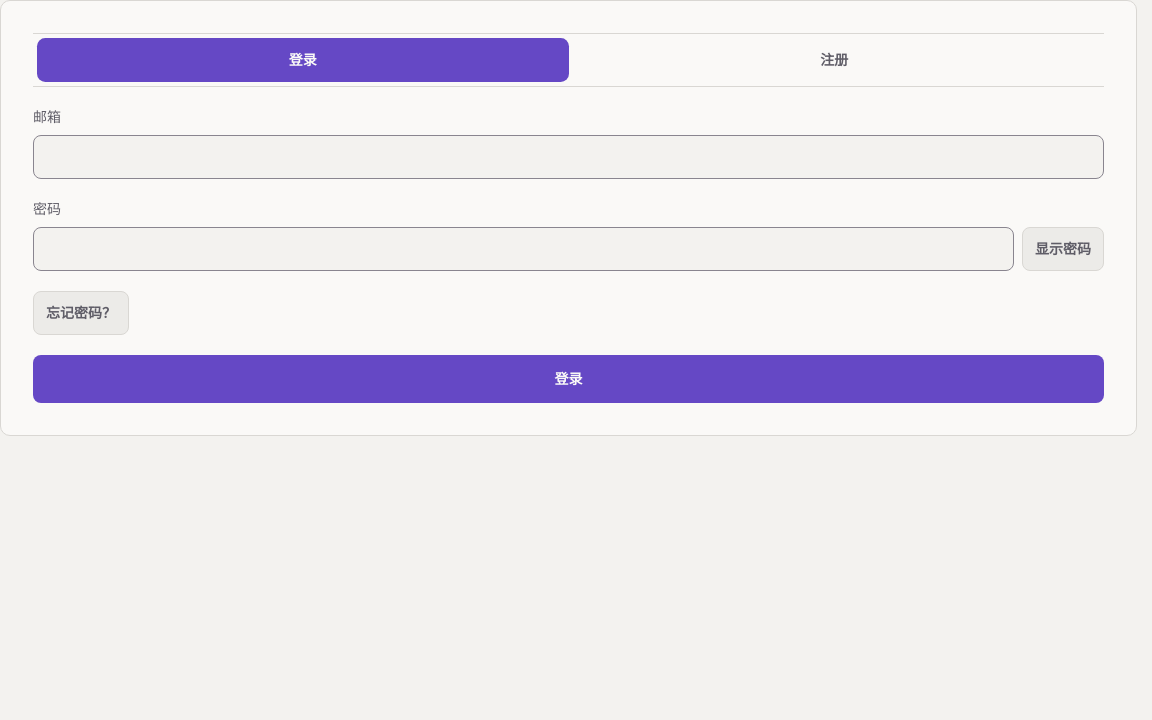
Test case: AuthForm registration email policy › renders API registration-policy failures as an email field error with its suggestion
This screenshot has width=1152, height=720.
Step 1. Click the button "注册" → (834, 60), box [568,38,1100,82]
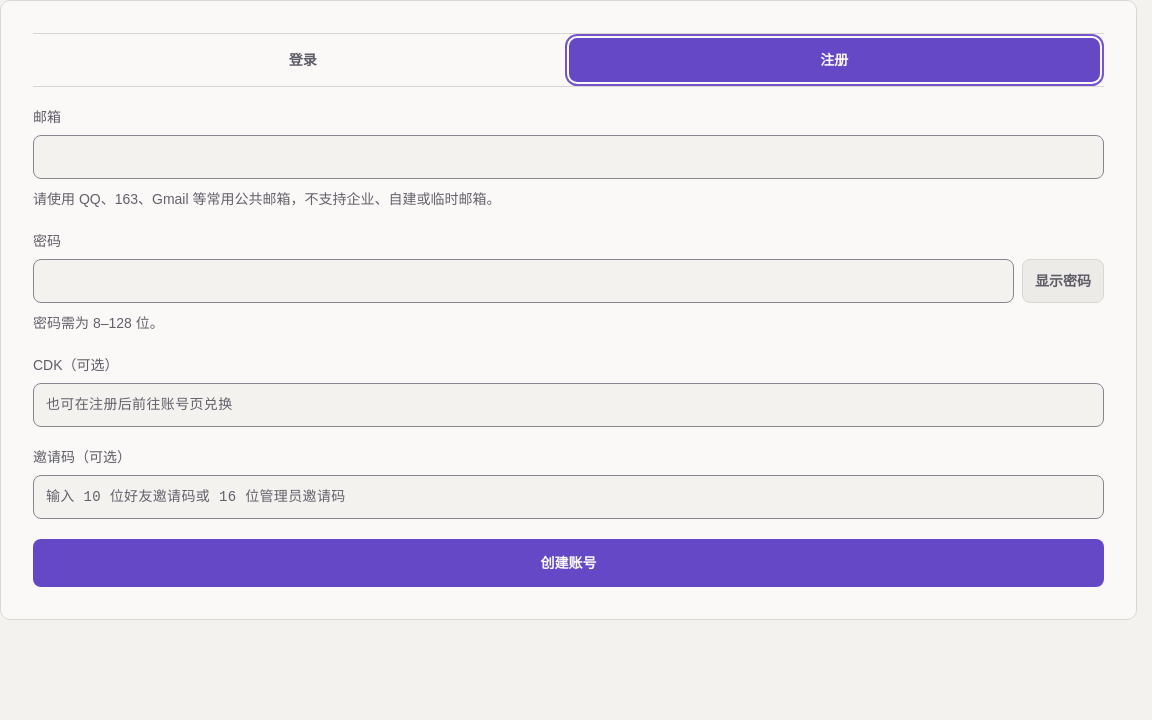
Step 2. Type "username@gmail.com" into the field labelled "邮箱" → (568, 157), box [33,135,1104,179]
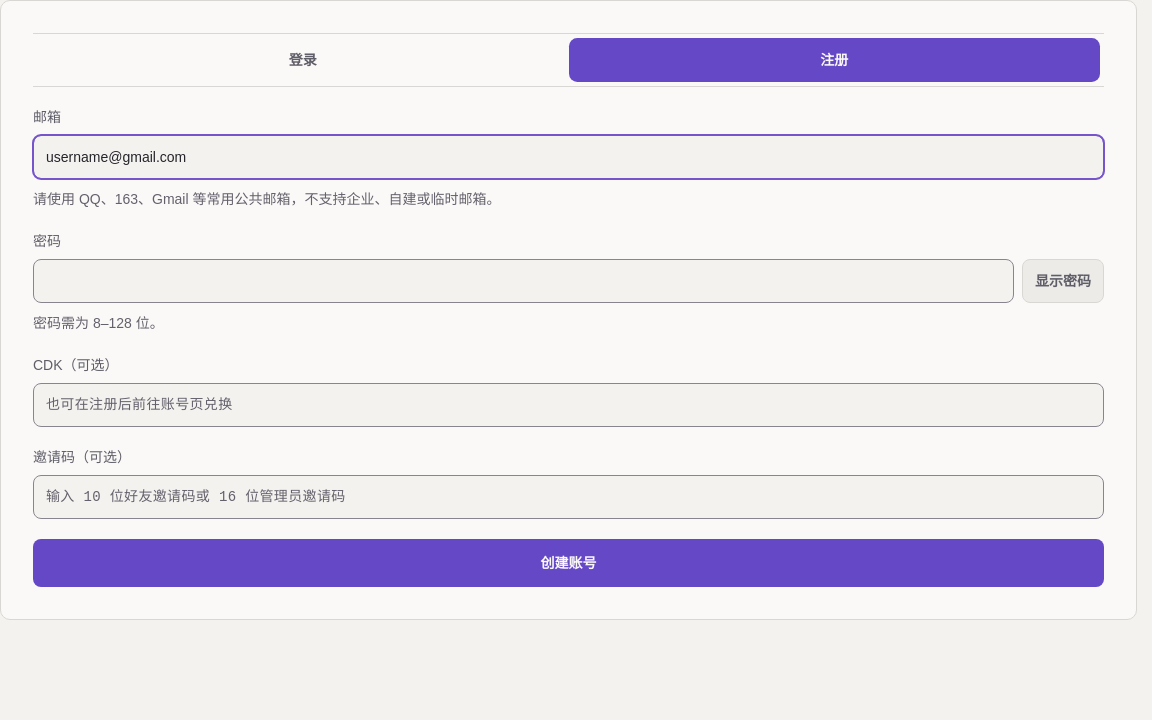
Step 3. Type "password123" into the password field labelled "密码" → (524, 281), box [33,259,1014,303]
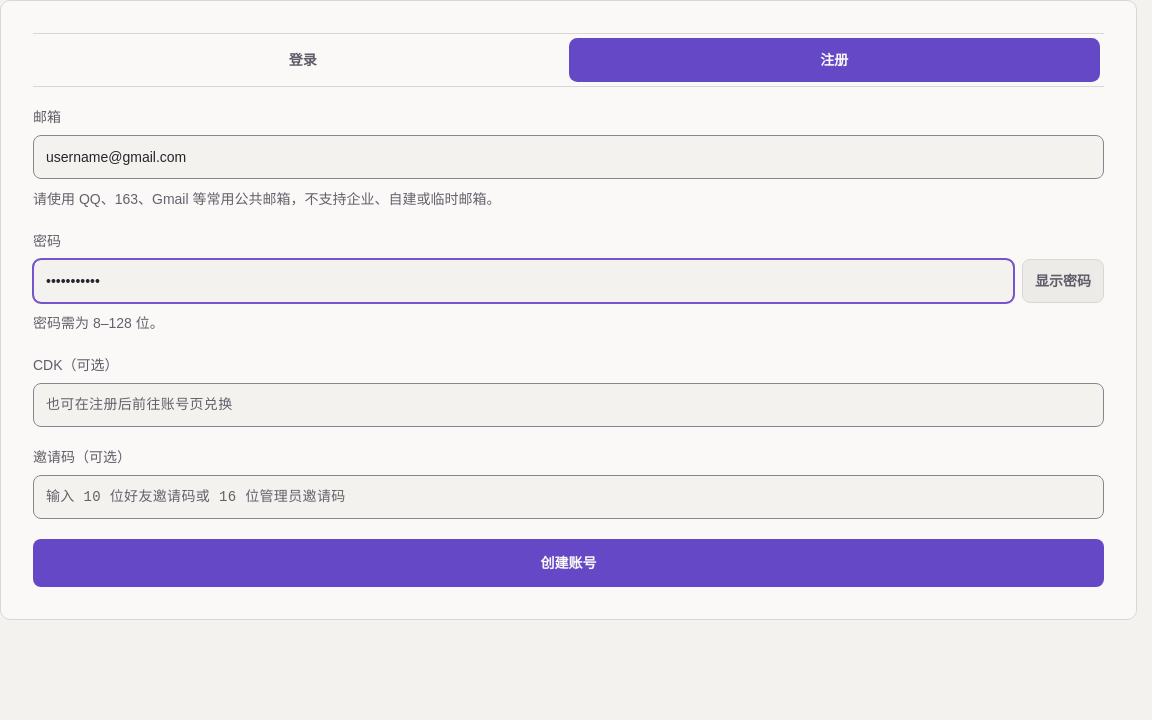
Step 4. Click the button "创建账号" → (568, 563), box [33,539,1104,587]
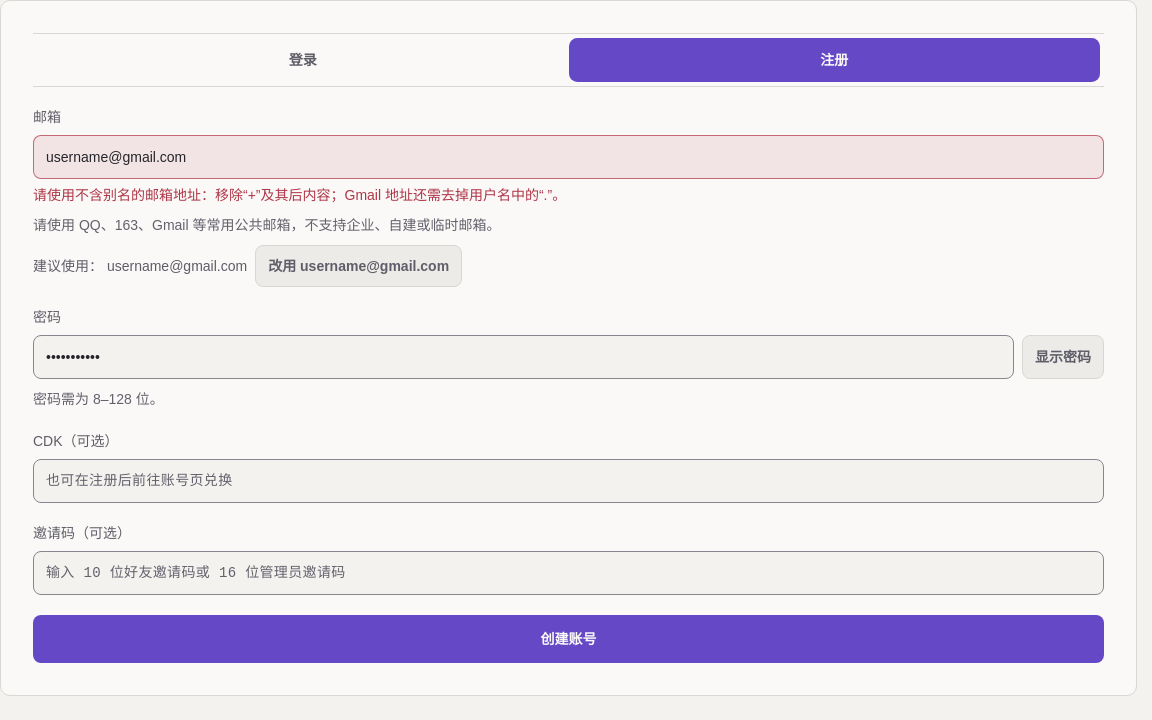
Expected: the button "改用 username@gmail.com" is shown, [255,245,462,287]
